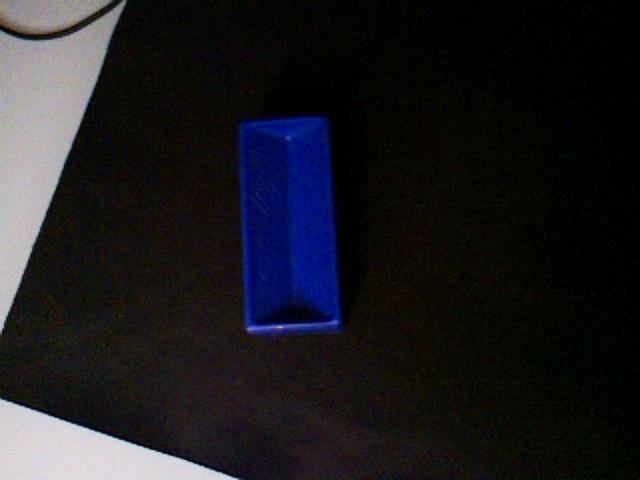blue: (236, 114, 345, 337)
